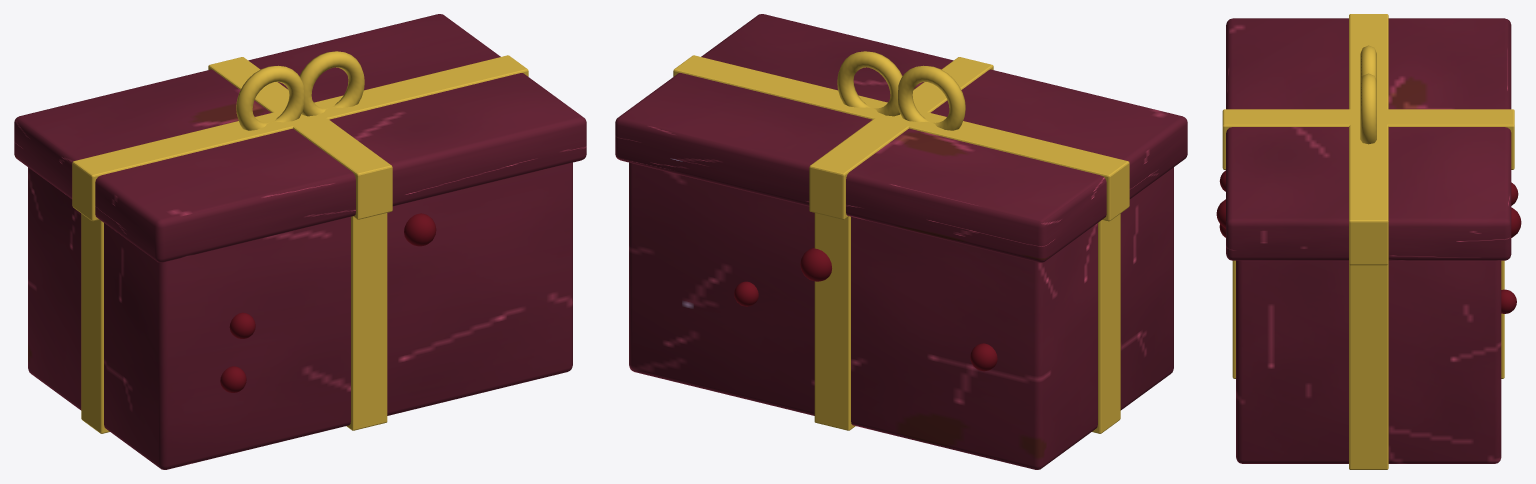
Rendered from chaos-box.glb.
The picture shows the model from 3 angles, left to right: view 1: azimuth 30°, elevation 25°; view 2: azimuth 150°, elevation 25°; view 3: azimuth 270°, elevation 25°; orthographic projection. The views are drawn at different scales.
Parts seen in each view (by area): view 1: Cube, Lid, Cube.002, Cube.001, Sphere.003; view 2: Cube, Lid, Cube.002, Cube.001, Sphere, Sphere.004; view 3: Lid, Cube, Cube.001, Cube.002, Sphere.002.
Boxes of the visible parts, left/top/right/bottom form: Cube: left=28, top=162, right=572, bottom=469; Lid: left=14, top=14, right=586, bottom=262; Cube.002: left=346, top=213, right=387, bottom=430; Cube.001: left=81, top=213, right=109, bottom=433; Sphere.003: left=404, top=213, right=436, bottom=246; Cube: left=629, top=162, right=1173, bottom=469; Lid: left=615, top=14, right=1187, bottom=262; Cube.002: left=814, top=213, right=855, bottom=430; Cube.001: left=1092, top=213, right=1120, bottom=433; Sphere: left=800, top=248, right=831, bottom=281; Sphere.004: left=970, top=343, right=997, bottom=371; Lid: left=1222, top=14, right=1514, bottom=265; Cube: left=1236, top=260, right=1501, bottom=463; Cube.001: left=1349, top=264, right=1388, bottom=469; Cube.002: left=1232, top=260, right=1504, bottom=378; Sphere.002: left=1501, top=289, right=1516, bottom=313.
Bounding box in the file's own units: 1.48 × 1.03 × 0.9196.
4 materials, 1 textured.
